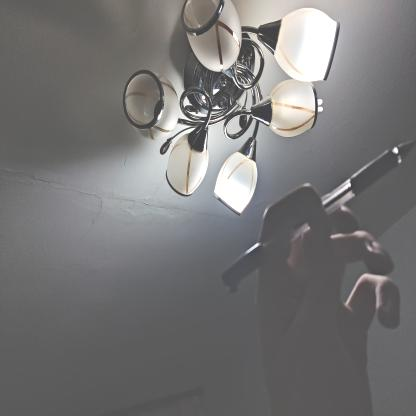Pen: (220, 132, 411, 298)
